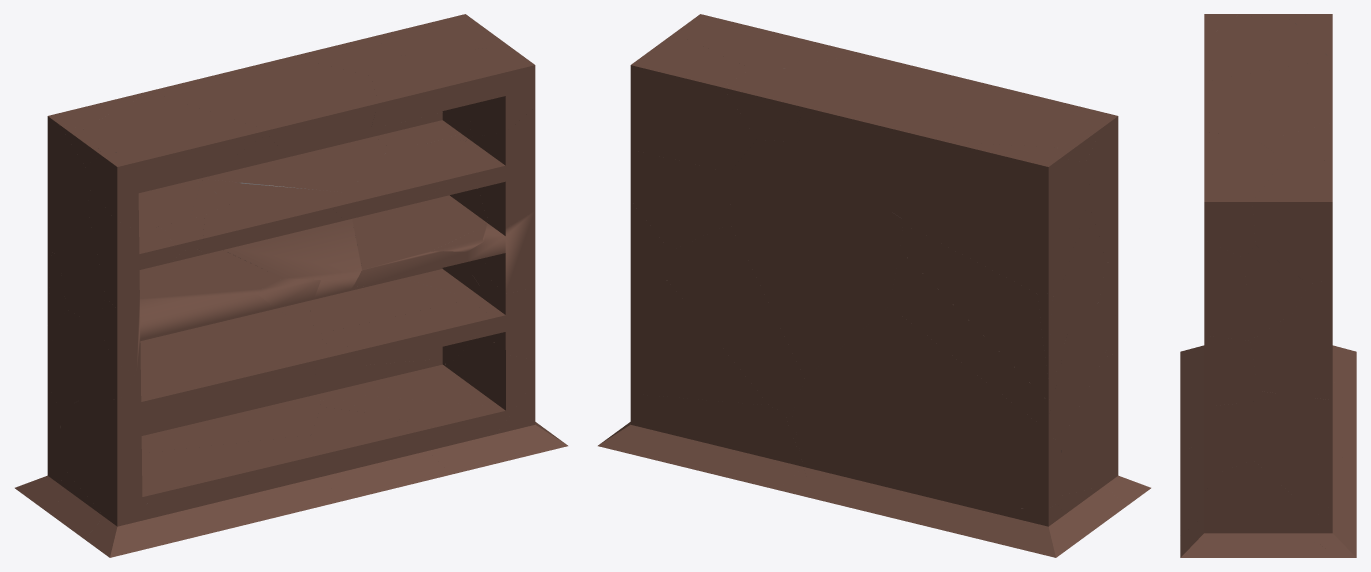
The model's file is Book_Shelf_DEST.fbx.
3 views of the same model, side by side, from view 1: azimuth 30°, elevation 25°; view 2: azimuth 150°, elevation 25°; view 3: azimuth 270°, elevation 25° (orthographic). The views are drawn at different scales.
Visible parts, largest first — view 1: polySurface996_cell.003, polySurface996_cell.005, polySurface996_cell.036, polySurface996_cell.002, polySurface996_cell.029, polySurface996_cell.033, polySurface996_cell.027, polySurface996_cell.031, polySurface996_cell.010, polySurface996_cell.009, polySurface996_cell.007, polySurface996_cell.044 (+26 smaller); view 2: polySurface996_cell.003, polySurface996_cell.002, polySurface996_cell.009, polySurface996_cell.029, polySurface996_cell.012, polySurface996_cell.030, polySurface996_cell.033, polySurface996_cell.035, polySurface996_cell.021, polySurface996_cell.008, polySurface996_cell.019, polySurface996_cell.007 (+13 smaller); view 3: polySurface996_cell, polySurface996_cell.029, polySurface996_cell.012, polySurface996_cell.021, polySurface996_cell.027, polySurface996_cell.016, polySurface996_cell.007, polySurface996_cell.044, polySurface996_cell.024, polySurface996_cell.018, polySurface996_cell.022, polySurface996_cell.030 (+11 smaller).
Part boxes in pixels (<box>): polySurface996_cell.003: <box>47,308,323,464</box>; polySurface996_cell.005: <box>52,435,336,553</box>; polySurface996_cell.036: <box>60,373,226,557</box>; polySurface996_cell.002: <box>201,128,390,326</box>; polySurface996_cell.029: <box>149,57,377,177</box>; polySurface996_cell.033: <box>308,188,487,333</box>; polySurface996_cell.027: <box>371,46,535,136</box>; polySurface996_cell.031: <box>311,406,450,502</box>; polySurface996_cell.010: <box>340,336,535,474</box>; polySurface996_cell.009: <box>47,91,200,256</box>; polySurface996_cell.007: <box>83,92,267,157</box>; polySurface996_cell.044: <box>425,107,535,228</box>; polySurface996_cell.003: <box>792,306,1061,515</box>; polySurface996_cell.002: <box>730,139,902,378</box>; polySurface996_cell.009: <box>902,141,1090,296</box>; polySurface996_cell.029: <box>787,52,967,218</box>; polySurface996_cell.012: <box>630,33,756,172</box>; polySurface996_cell.030: <box>598,393,803,489</box>; polySurface996_cell.033: <box>667,224,804,413</box>; polySurface996_cell.035: <box>900,223,1067,401</box>; polySurface996_cell.021: <box>630,280,768,405</box>; polySurface996_cell.008: <box>889,250,1067,428</box>; polySurface996_cell.019: <box>630,149,730,250</box>; polySurface996_cell.007: <box>949,79,1096,147</box>; polySurface996_cell: <box>1180,459,1315,557</box>; polySurface996_cell.029: <box>1204,59,1332,141</box>; polySurface996_cell.012: <box>1252,160,1332,284</box>; polySurface996_cell.021: <box>1252,391,1332,515</box>; polySurface996_cell.027: <box>1204,131,1283,257</box>; polySurface996_cell.016: <box>1250,314,1332,400</box>; polySurface996_cell.007: <box>1204,15,1330,81</box>; polySurface996_cell.044: <box>1204,240,1250,340</box>; polySurface996_cell.024: <box>1244,245,1308,339</box>; polySurface996_cell.018: <box>1204,336,1257,406</box>; polySurface996_cell.022: <box>1204,402,1252,474</box>; polySurface996_cell.030: <box>1315,456,1356,557</box>.
Bounding box in the file's own units: 87.25 × 68.41 × 31.5.
